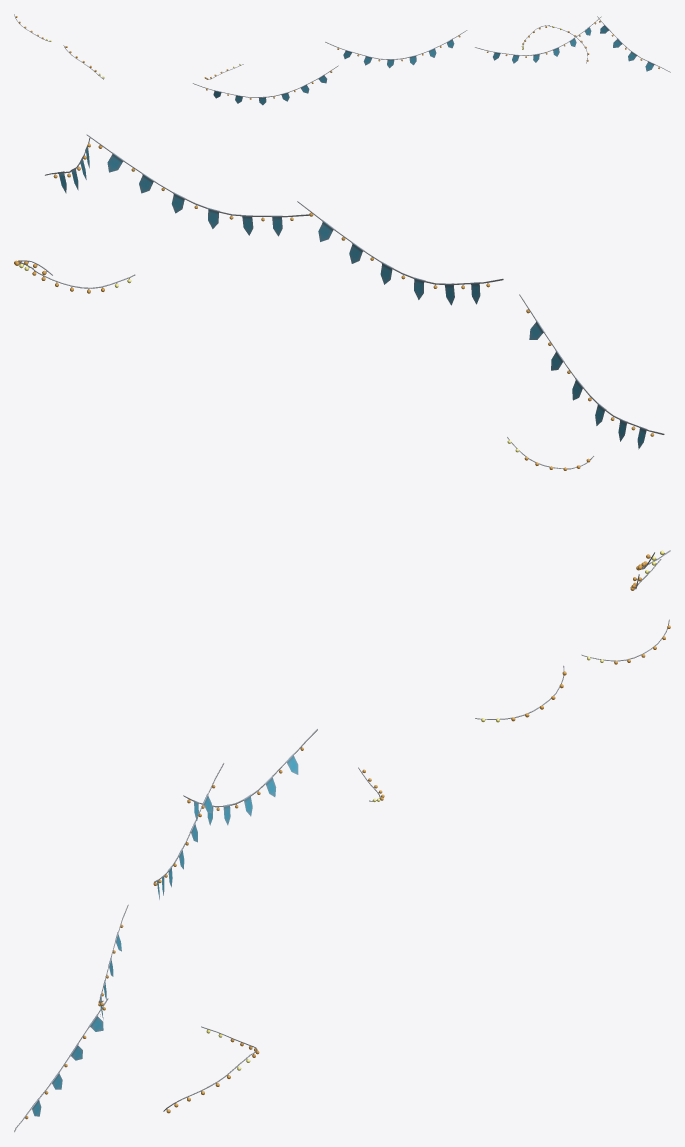
Rendered from pref_sm_beach_winter_lightflagR_lv3.fbx.
3 renders of one model, top to bottom at view 1: azimuth 30°, elevation 25°; view 2: azimuth 150°, elevation 25°; view 3: azimuth 270°, elevation 25°, orthographic. The views are drawn at different scales.
Visible parts, largest first — view 1: pref_sm_beach_winter_lightflagR_lv3; view 2: pref_sm_beach_winter_lightflagR_lv3; view 3: pref_sm_beach_winter_lightflagR_lv3.
Boxes of the visible parts, x1=… form: pref_sm_beach_winter_lightflagR_lv3: x1=14, y1=14, x2=670, y2=105; pref_sm_beach_winter_lightflagR_lv3: x1=14, y1=134, x2=670, y2=590; pref_sm_beach_winter_lightflagR_lv3: x1=14, y1=619, x2=670, y2=1132.
Bounding box in the file's own units: 55.94 × 7.82 × 36.06.
